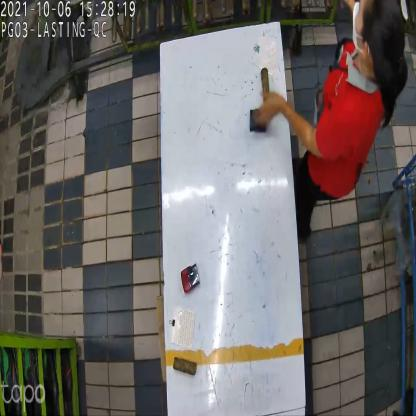stamp: (246, 106, 270, 138), (181, 260, 201, 296)
